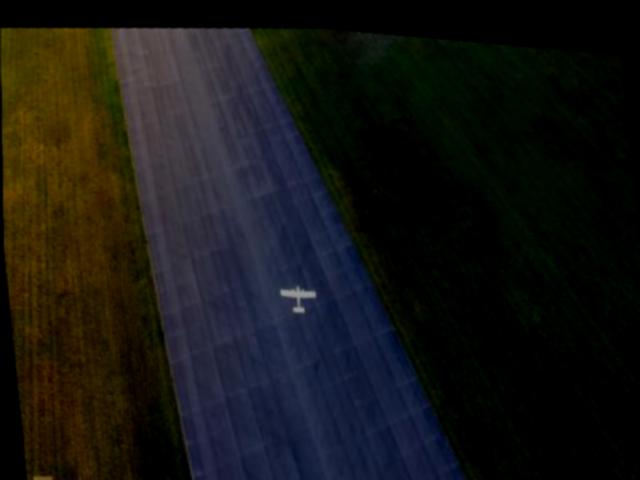uav: (276, 276, 319, 313)
